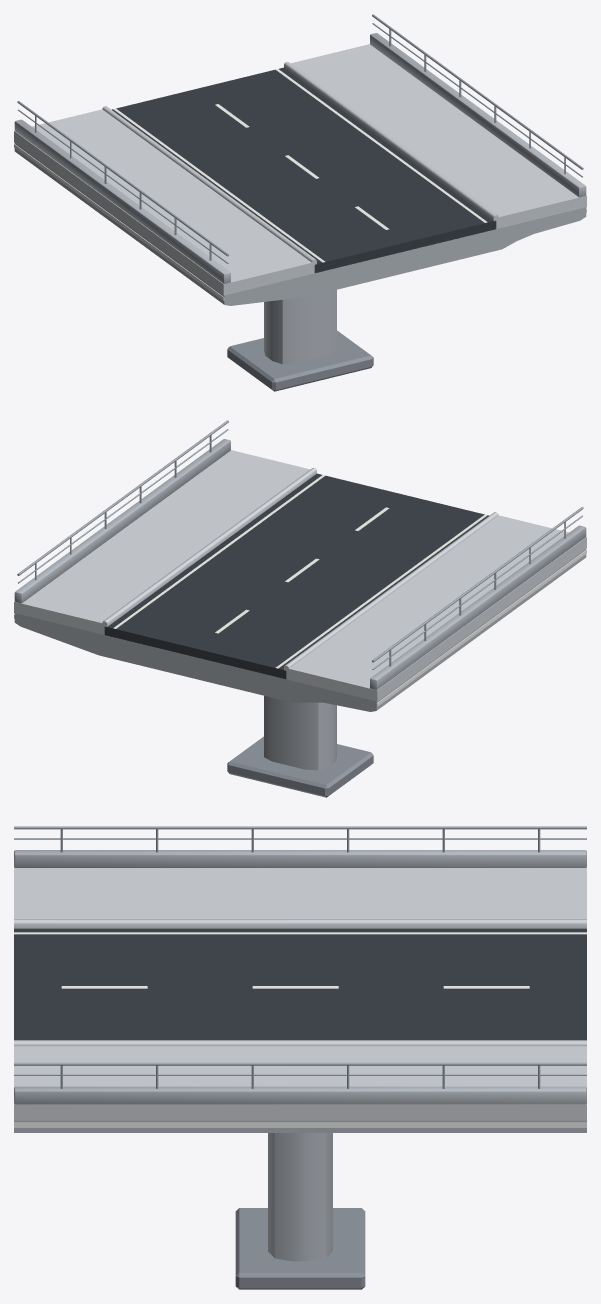
The model's file is ponte_tabuleiro_rua.glb.
3 views of the same model, one above another, from view 1: azimuth 30°, elevation 25°; view 2: azimuth 150°, elevation 25°; view 3: azimuth 270°, elevation 25° (orthographic). The views are drawn at different scales.
Visible parts, largest first — view 1: ponte_tabuleiro_rua; view 2: ponte_tabuleiro_rua; view 3: ponte_tabuleiro_rua.
Boxes of the visible parts, x1,y1,x2,y2 form: ponte_tabuleiro_rua: (14, 14, 586, 391); ponte_tabuleiro_rua: (14, 420, 586, 797); ponte_tabuleiro_rua: (14, 826, 586, 1289).
Bounding box in the file's own units: 15 × 9.05 × 15.
Materials: 1 (1 with a texture image).
